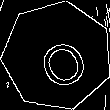O_NW: (25, 23, 89, 88)
